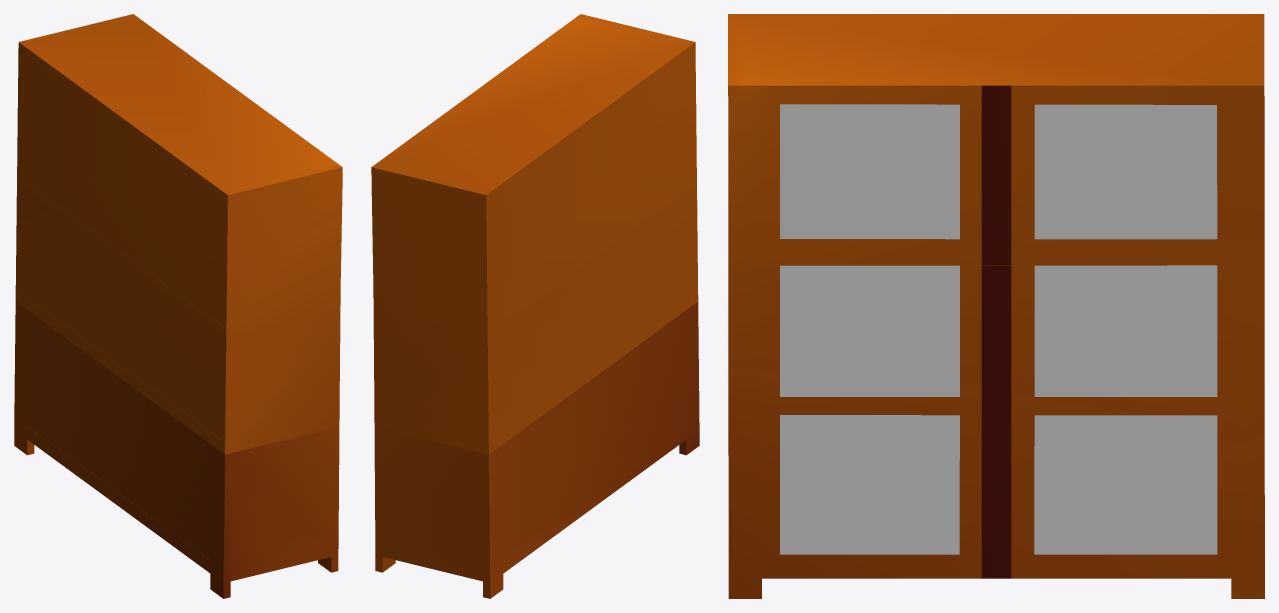
Rendered from Estante1.fbx.
The picture shows the model from 3 angles, left to right: view 1: azimuth 30°, elevation 25°; view 2: azimuth 150°, elevation 25°; view 3: azimuth 270°, elevation 25°; orthographic projection. The views are drawn at different scales.
Visible parts, largest first — view 1: Cube; view 2: Cube; view 3: Cube.
Boxes of the visible parts, box(x1,y1,x2,y2) form: Cube: box(14, 14, 342, 598); Cube: box(371, 14, 699, 598); Cube: box(728, 14, 1264, 598).
Size of the model in its own units: 207 by 670 by 632.
